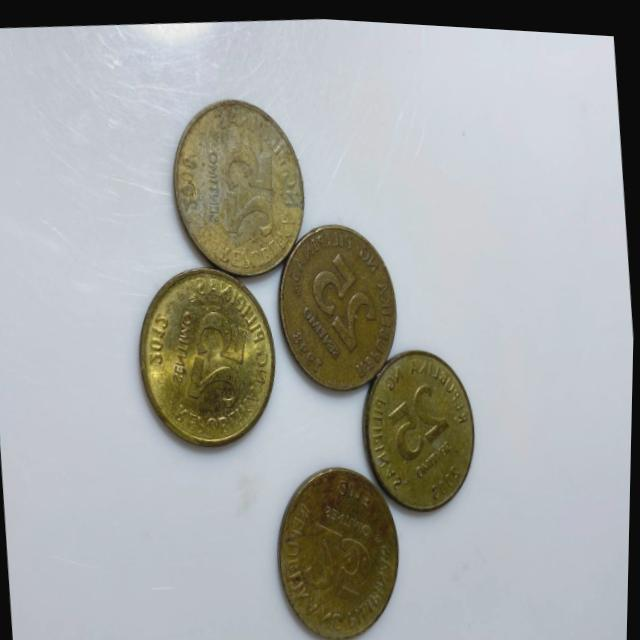25Cent_Old_Front: (307, 235, 381, 341), (185, 304, 258, 406), (377, 366, 454, 460), (212, 132, 280, 234), (307, 512, 377, 606)
